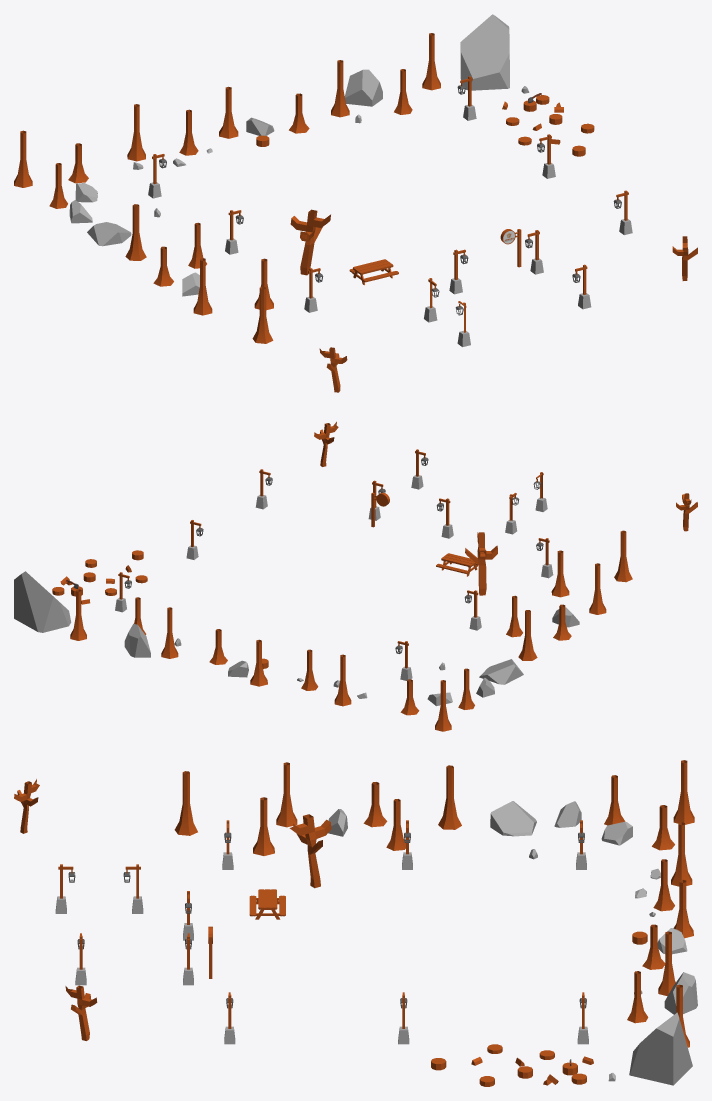
File: world-physic-environment.glb
3 views of the same model, one above another, from view 1: azimuth 30°, elevation 25°; view 2: azimuth 150°, elevation 25°; view 3: azimuth 270°, elevation 25° (orthographic). The views are drawn at different scales.
Visible parts, largest first — view 1: Cube.015; view 2: Cube.015; view 3: Cube.015.
Boxes of the visible parts, bbox=[...] form: Cube.015: bbox=[14, 14, 697, 392]; Cube.015: bbox=[14, 421, 697, 731]; Cube.015: bbox=[14, 760, 697, 1086].
Bounding box in the file's own units: 17.5 × 2.17 × 18.6.
Materials: 15 (1 with a texture image).
